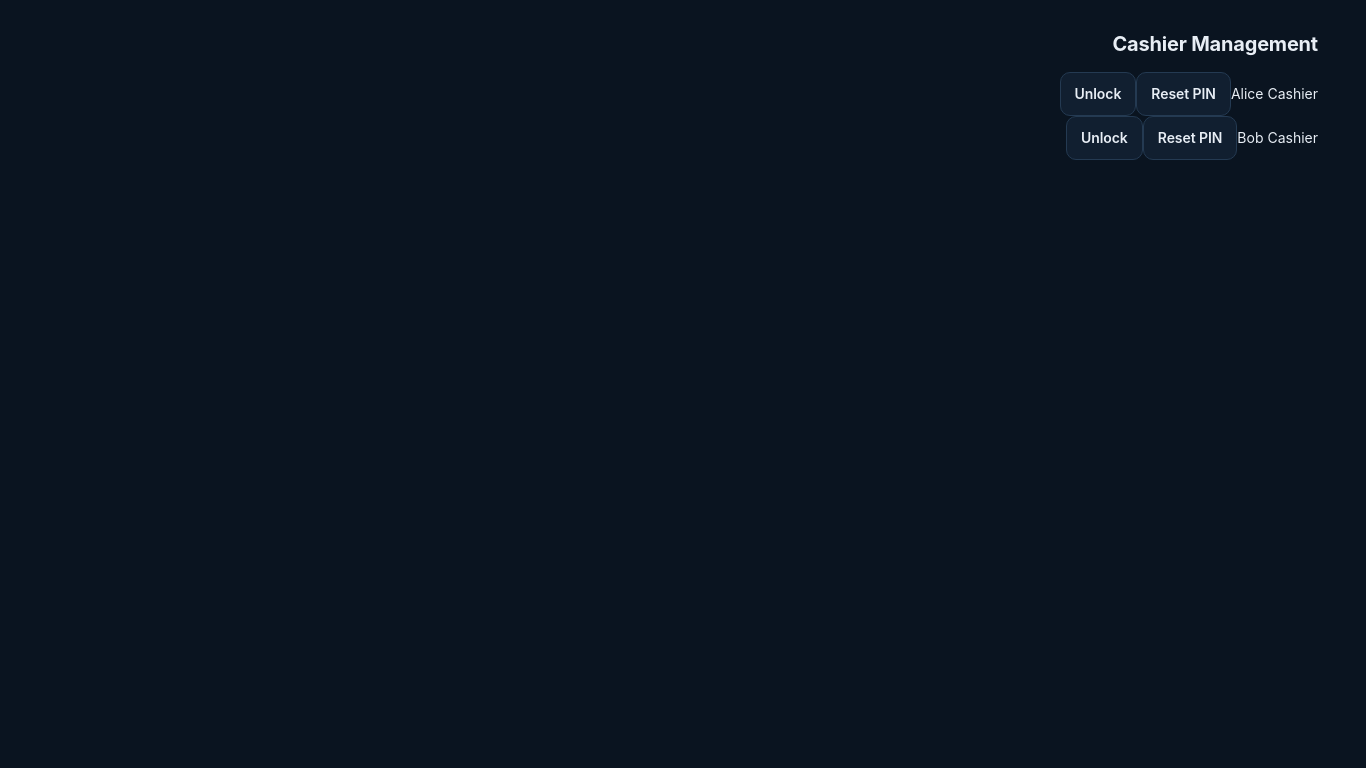
Scenario: CashierManagement (T078) › Reset PIN action (T072 bridge) › shows generic success message on pin_reset (no cashier id in DOM)
The image size is (1366, 768).
Expected: the text "Alice Cashier" is shown, [1231, 85, 1318, 102]
Click the button "Reset PIN" next to "Alice Cashier" at coordinates (1184, 94), box [1136, 72, 1231, 116]
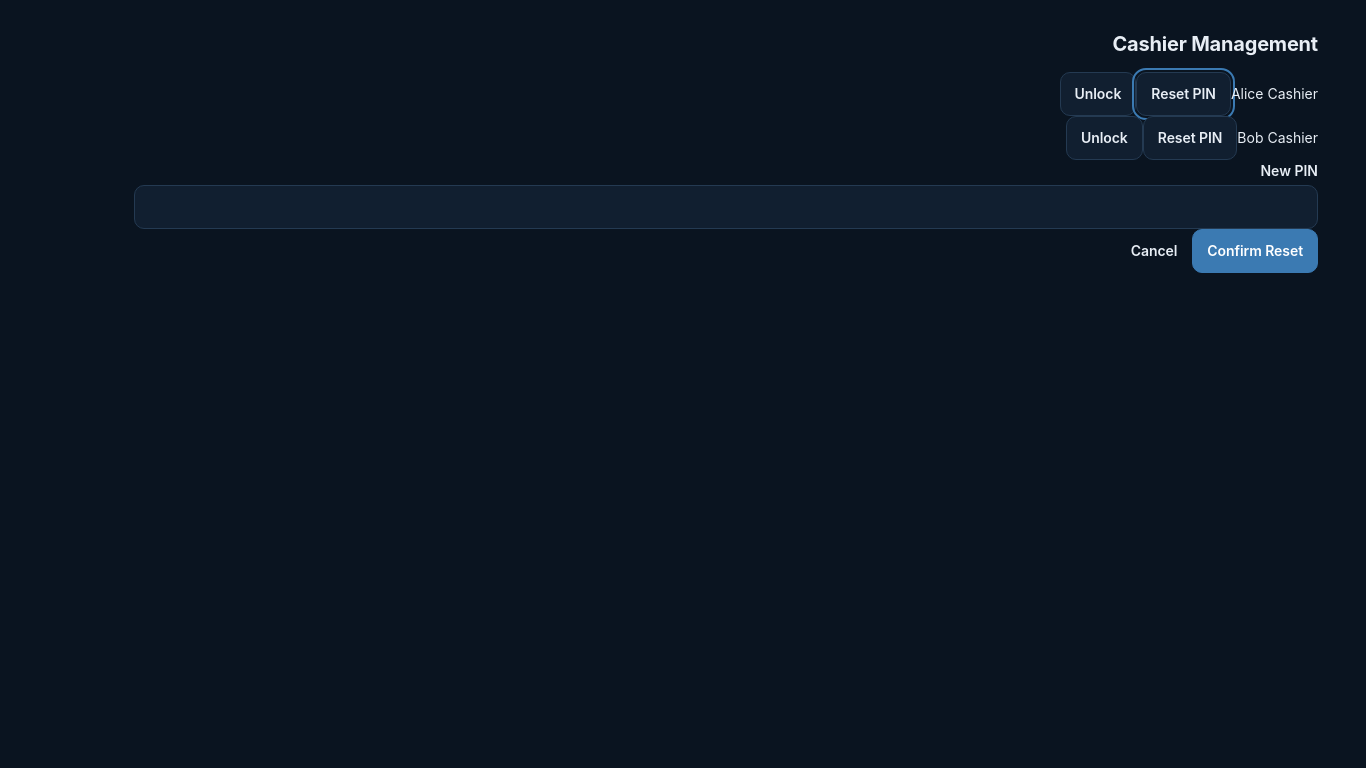
Type "4321" into the password field labelled "New PIN" at coordinates (726, 207), box [134, 185, 1318, 229]
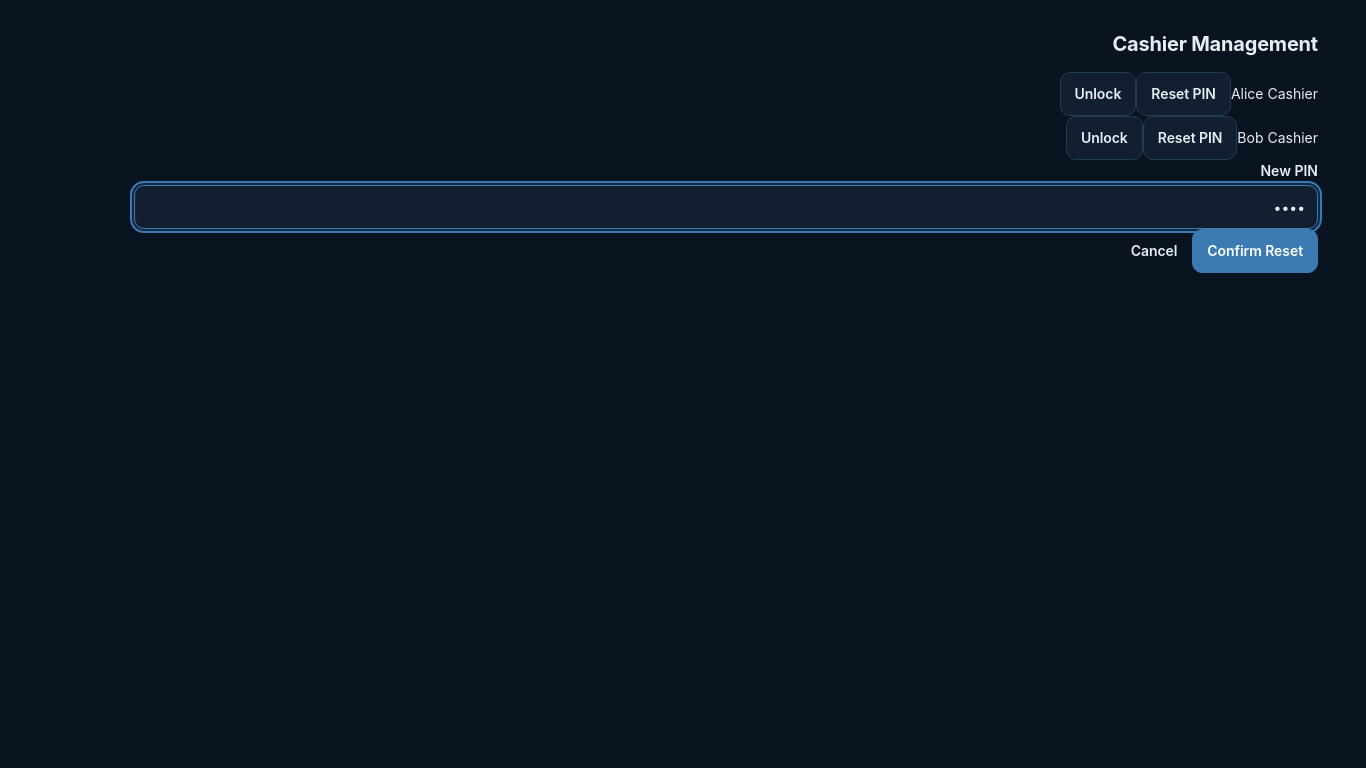
Click the button "Confirm Reset" at coordinates (1255, 251), box [1192, 229, 1318, 273]
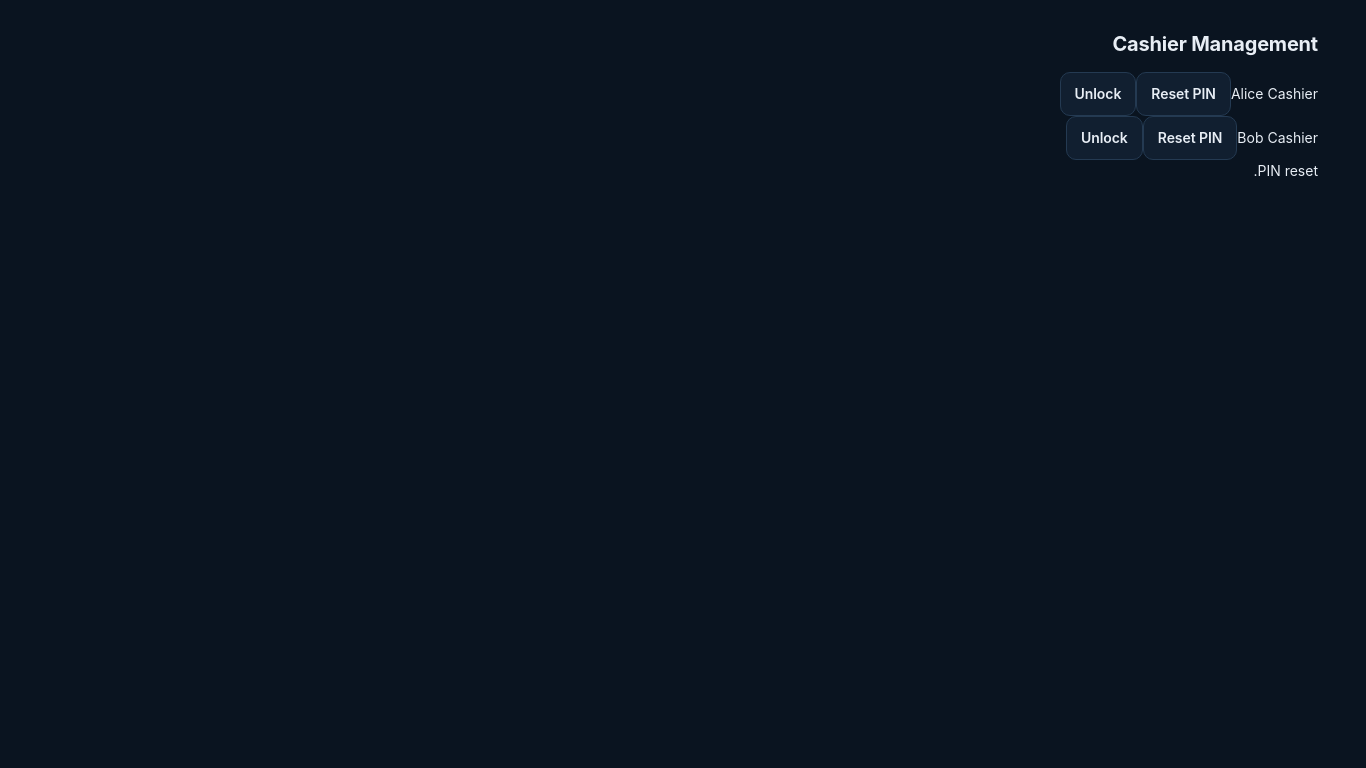
Result: the message "PIN reset." is shown at [1253, 162, 1318, 179]
